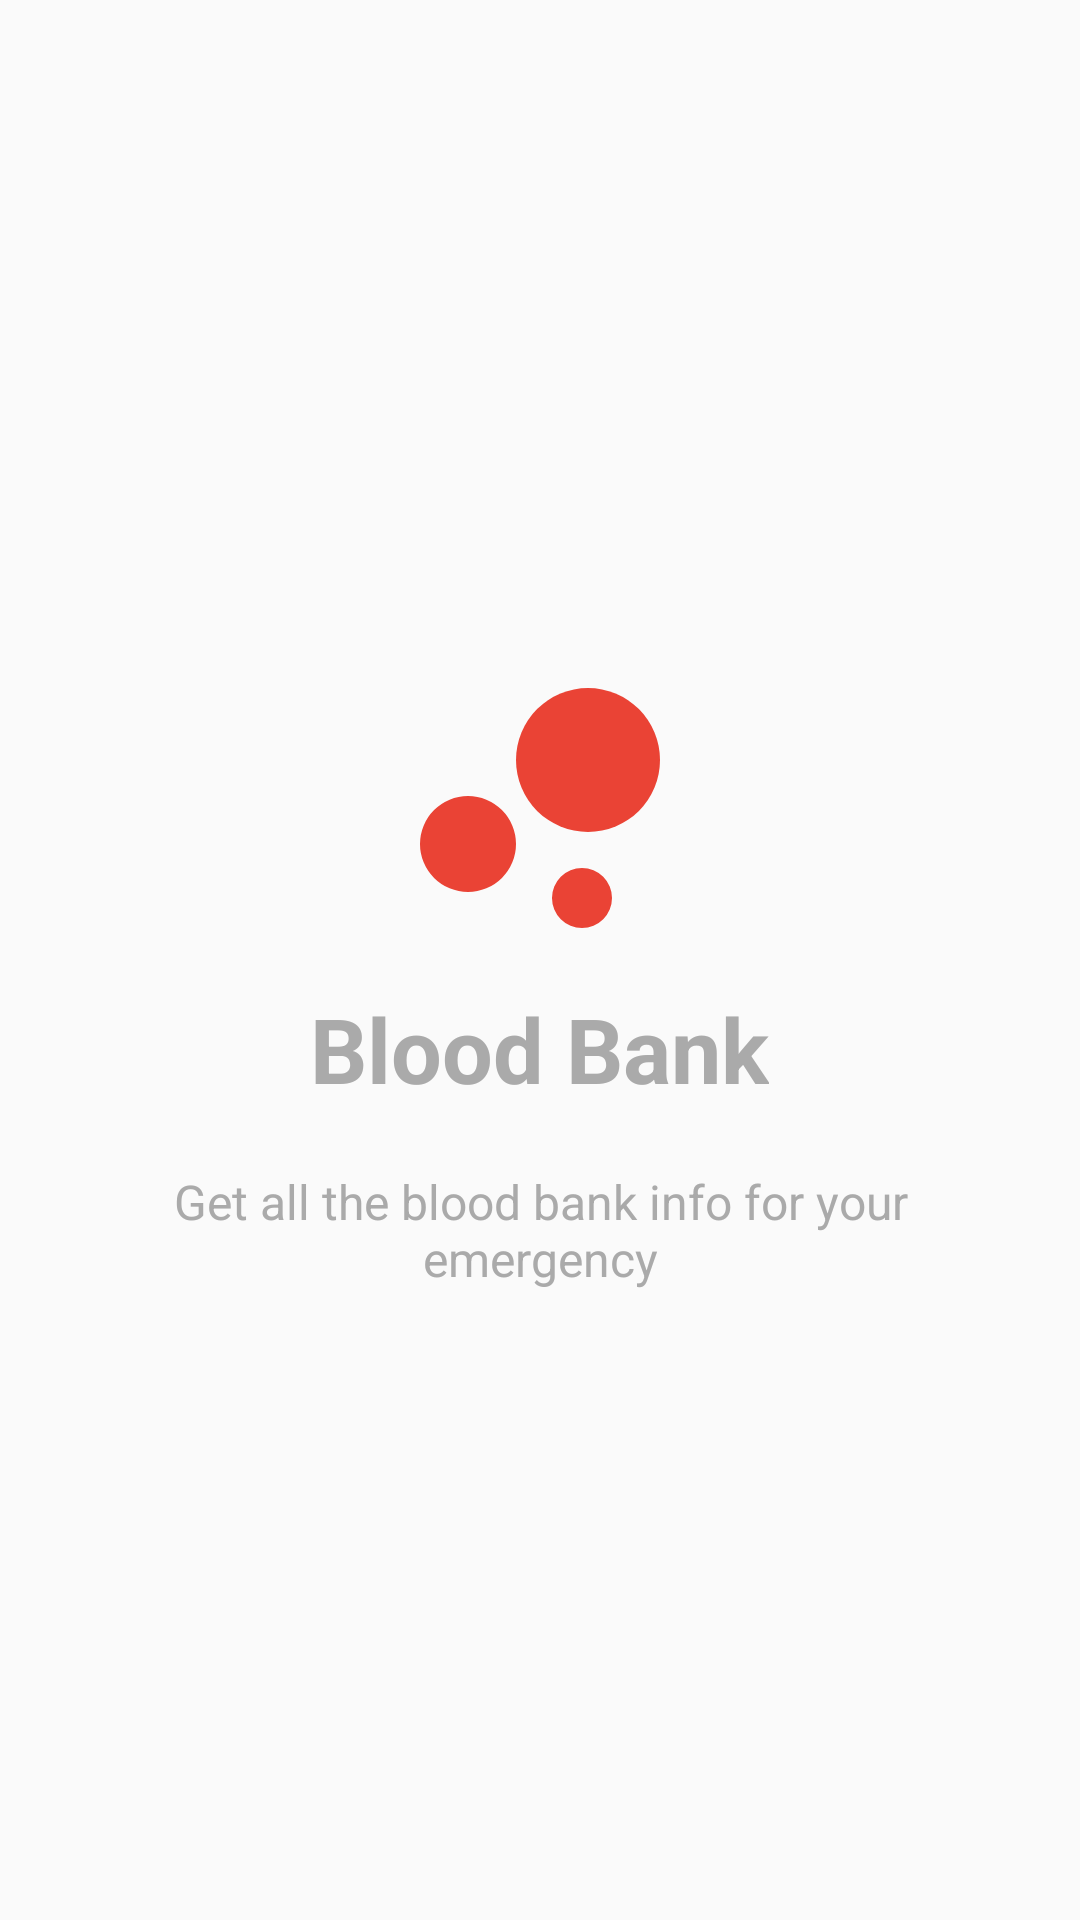

Where icons sit on this 1080px x 1920px app screen, as (x1, y1, x2, y2):
bubble chart: (420, 688, 660, 928)
